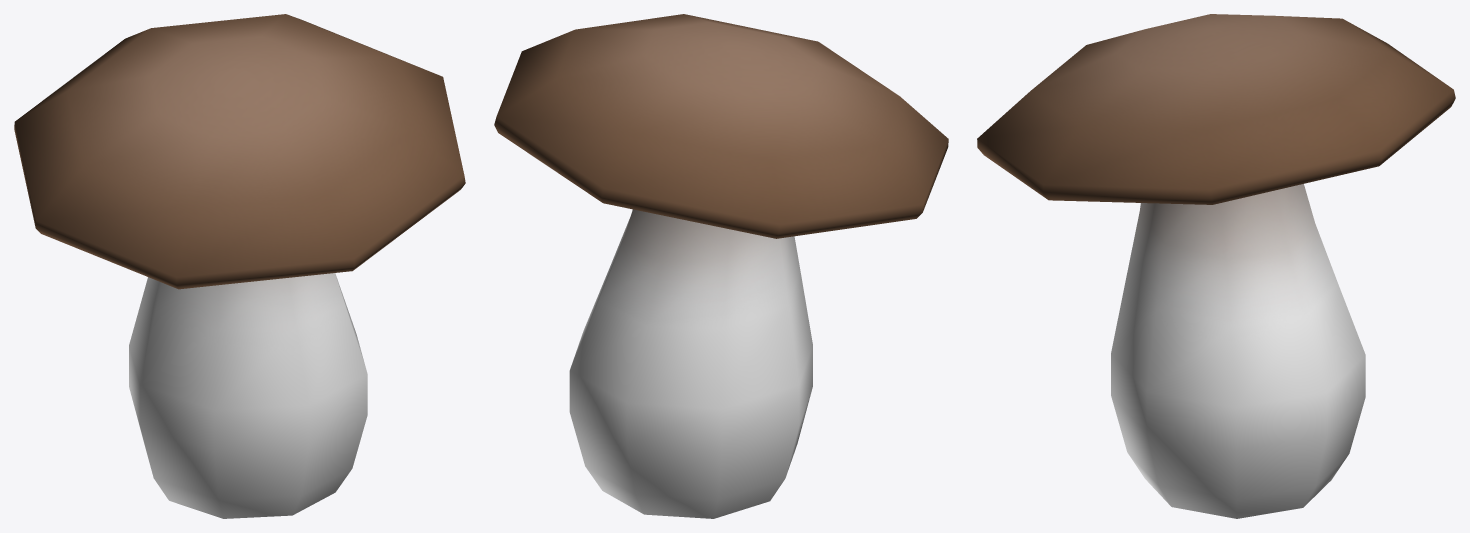
File: mushroom.FBX
3 views of the same model, side by side, from view 1: azimuth 30°, elevation 25°; view 2: azimuth 150°, elevation 25°; view 3: azimuth 270°, elevation 25° (orthographic). The views are drawn at different scales.
Parts seen in each view (by area): view 1: mushroom; view 2: mushroom; view 3: mushroom.
Boxes of the visible parts, x1,y1,x2,y2 form: mushroom: [14, 14, 465, 518]; mushroom: [494, 14, 948, 518]; mushroom: [977, 14, 1455, 518].
Bounding box in the file's own units: 38.93 × 39.26 × 38.93.
